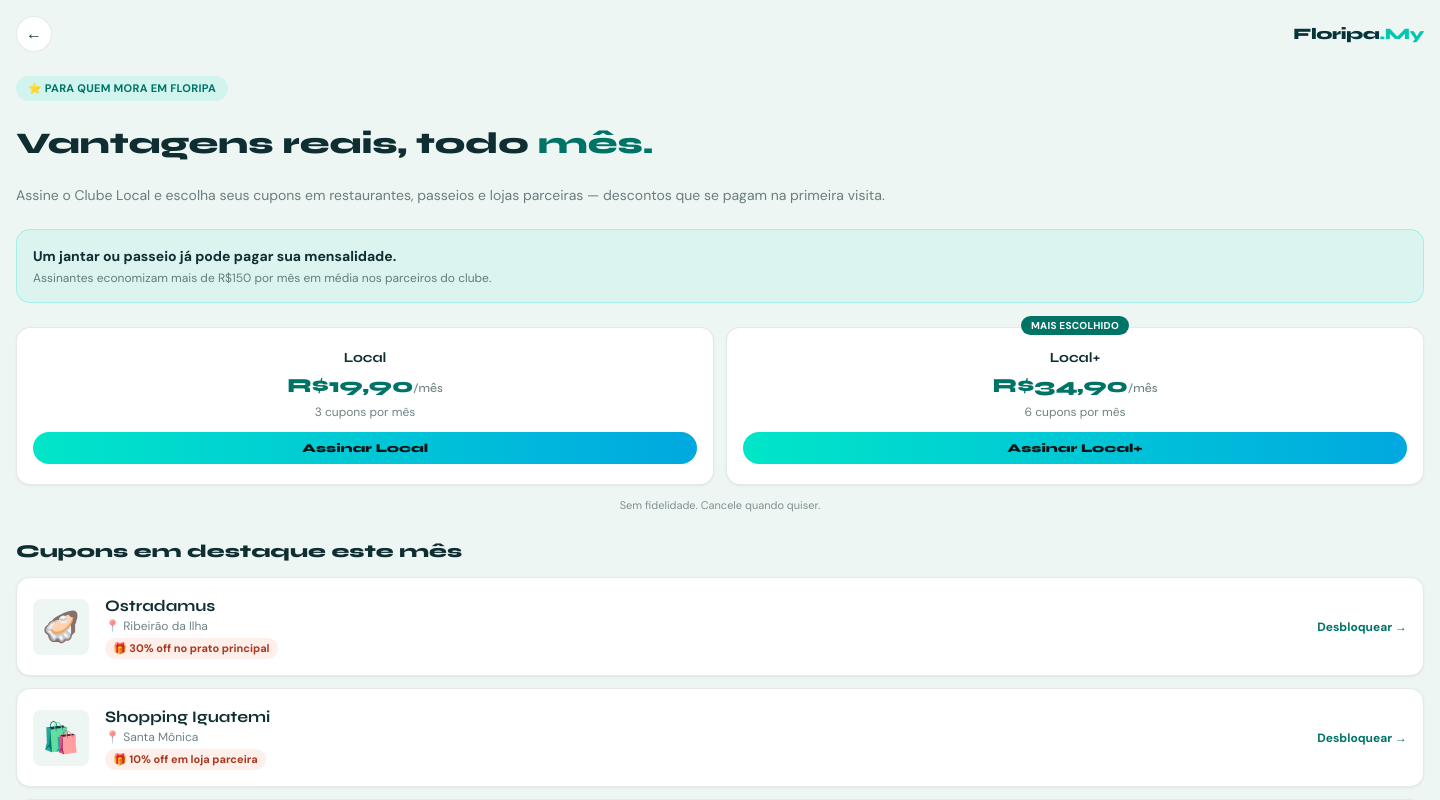
Test: ClubePage › advances to the signup form after picking a plan
The width and height of the screenshot is (1440, 800).
Click the button "Assinar Local+".
click(1075, 448)  # box x1=743 y1=432 x2=1407 y2=464
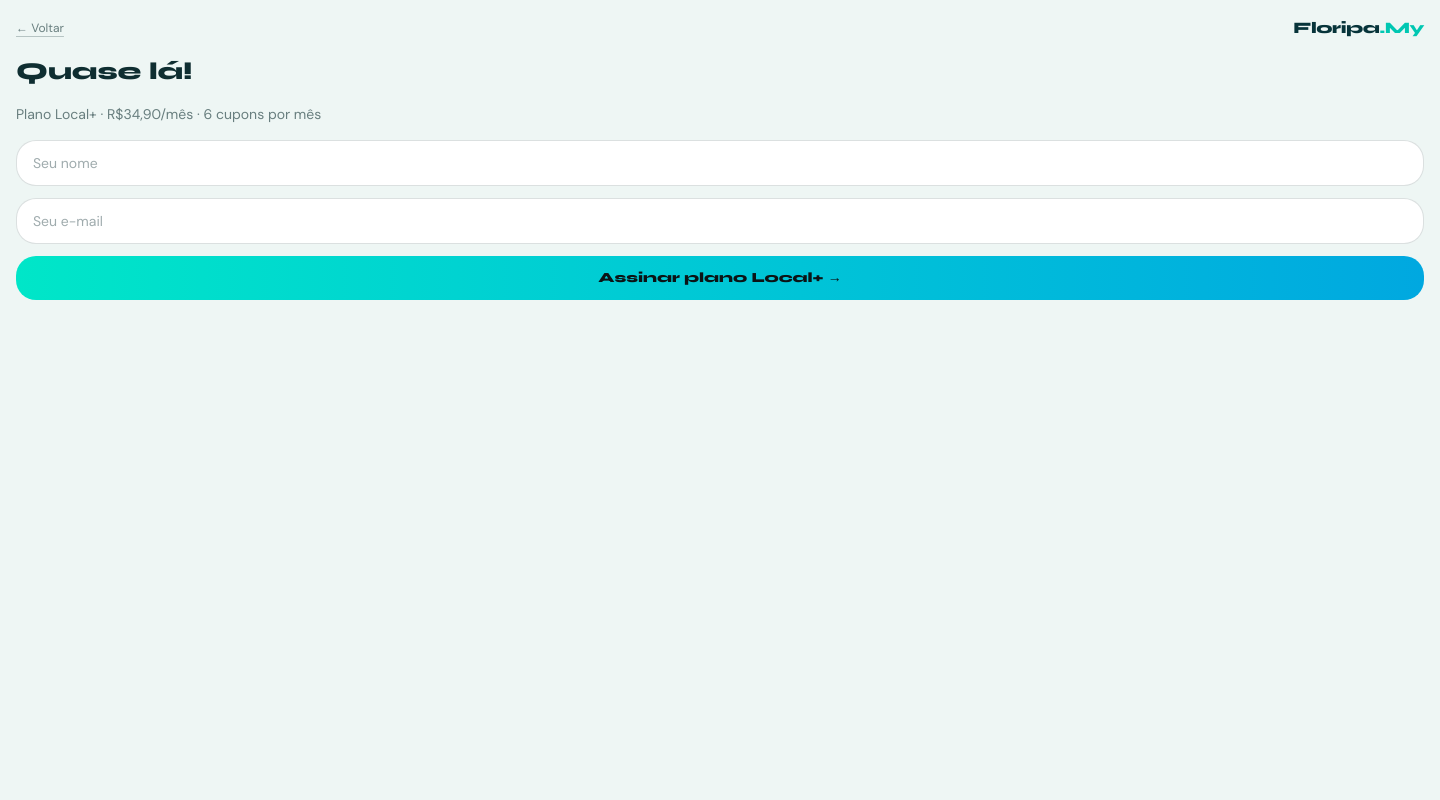
Expected: the field labelled "Seu nome" is shown, x1=16 y1=140 x2=1424 y2=186
Expected: the field labelled "Seu e-mail" is shown, x1=16 y1=198 x2=1424 y2=244
Expected: the text "Plano Local+ · R$34,90/mês · 6 cupons por mês" is shown, x1=16 y1=105 x2=321 y2=123
